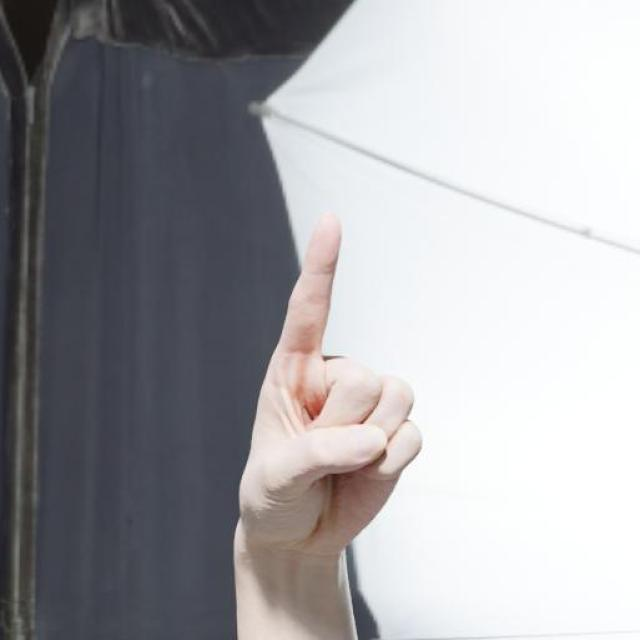Z: (232, 212, 428, 562)
